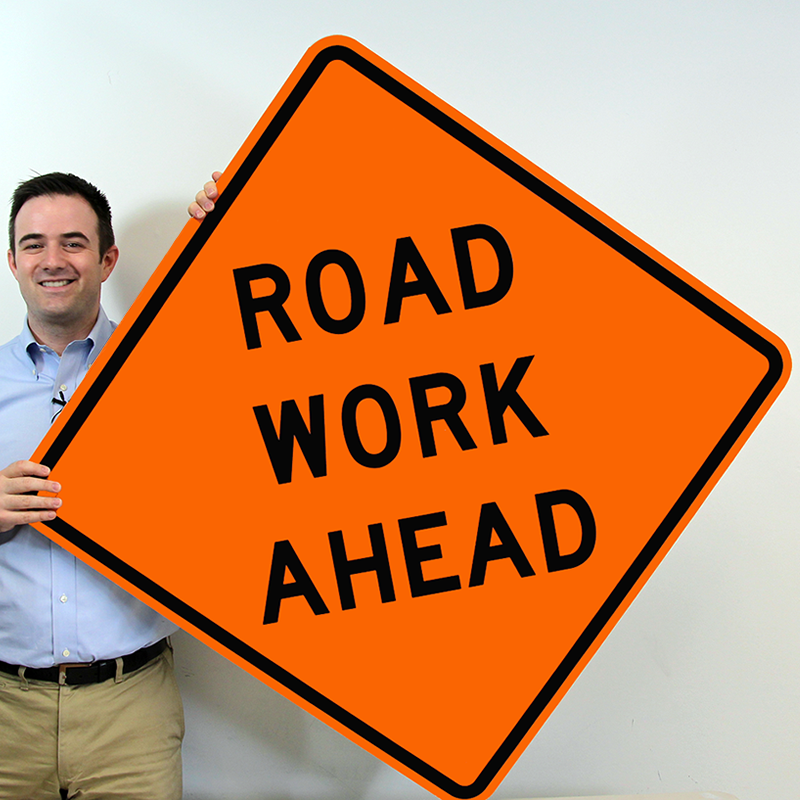Road_workahead: (37, 42, 791, 796)
